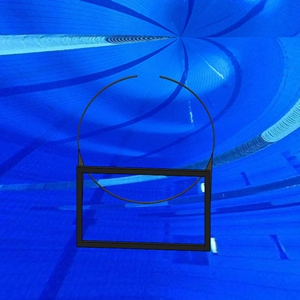circle: (75, 73, 217, 253)
